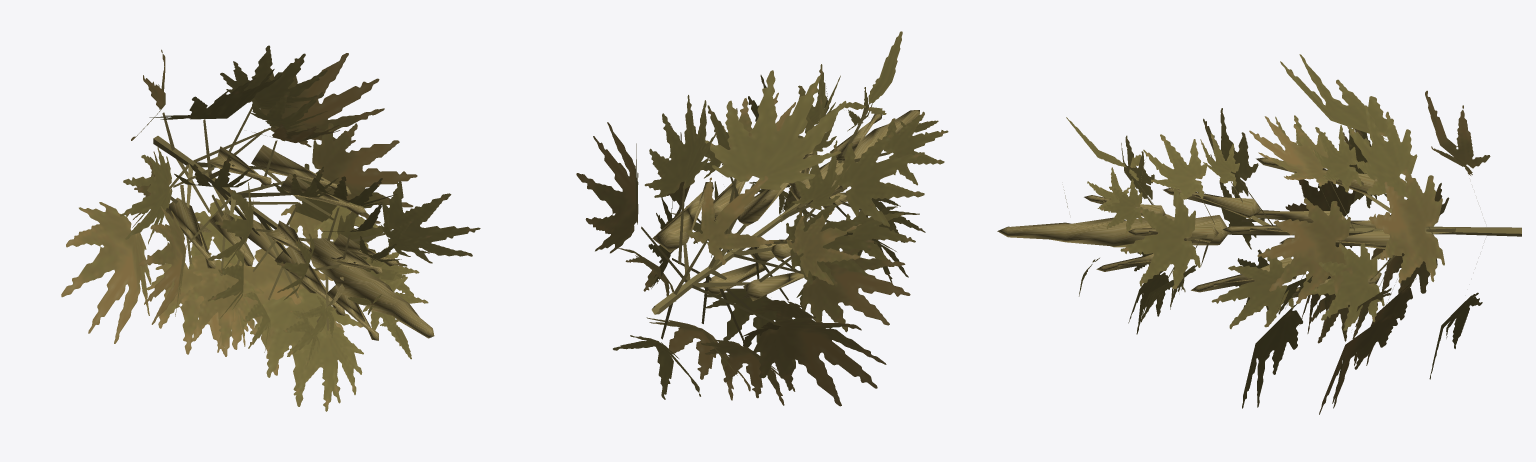
Rendered from p_haze_ripe_c2_cards.obj.
3 views of the same model, side by side, from view 1: azimuth 30°, elevation 25°; view 2: azimuth 150°, elevation 25°; view 3: azimuth 270°, elevation 25° (orthographic). The views are drawn at different scales.
Bounding box in the file's own units: 1.75 × 1.66 × 2.03.
Materials: 1 (1 with a texture image).
